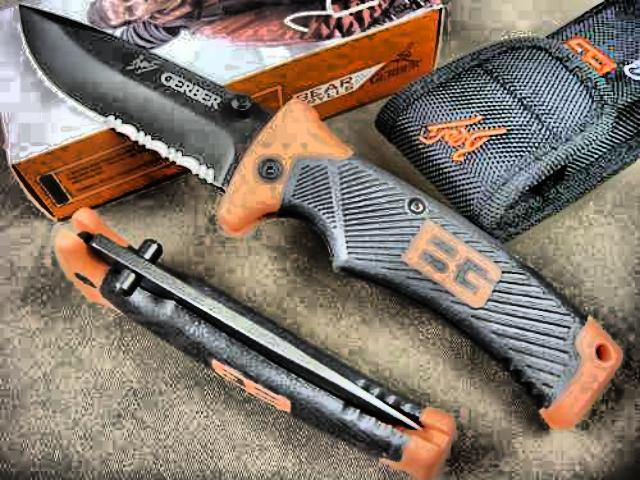knife: (16, 2, 270, 192)
